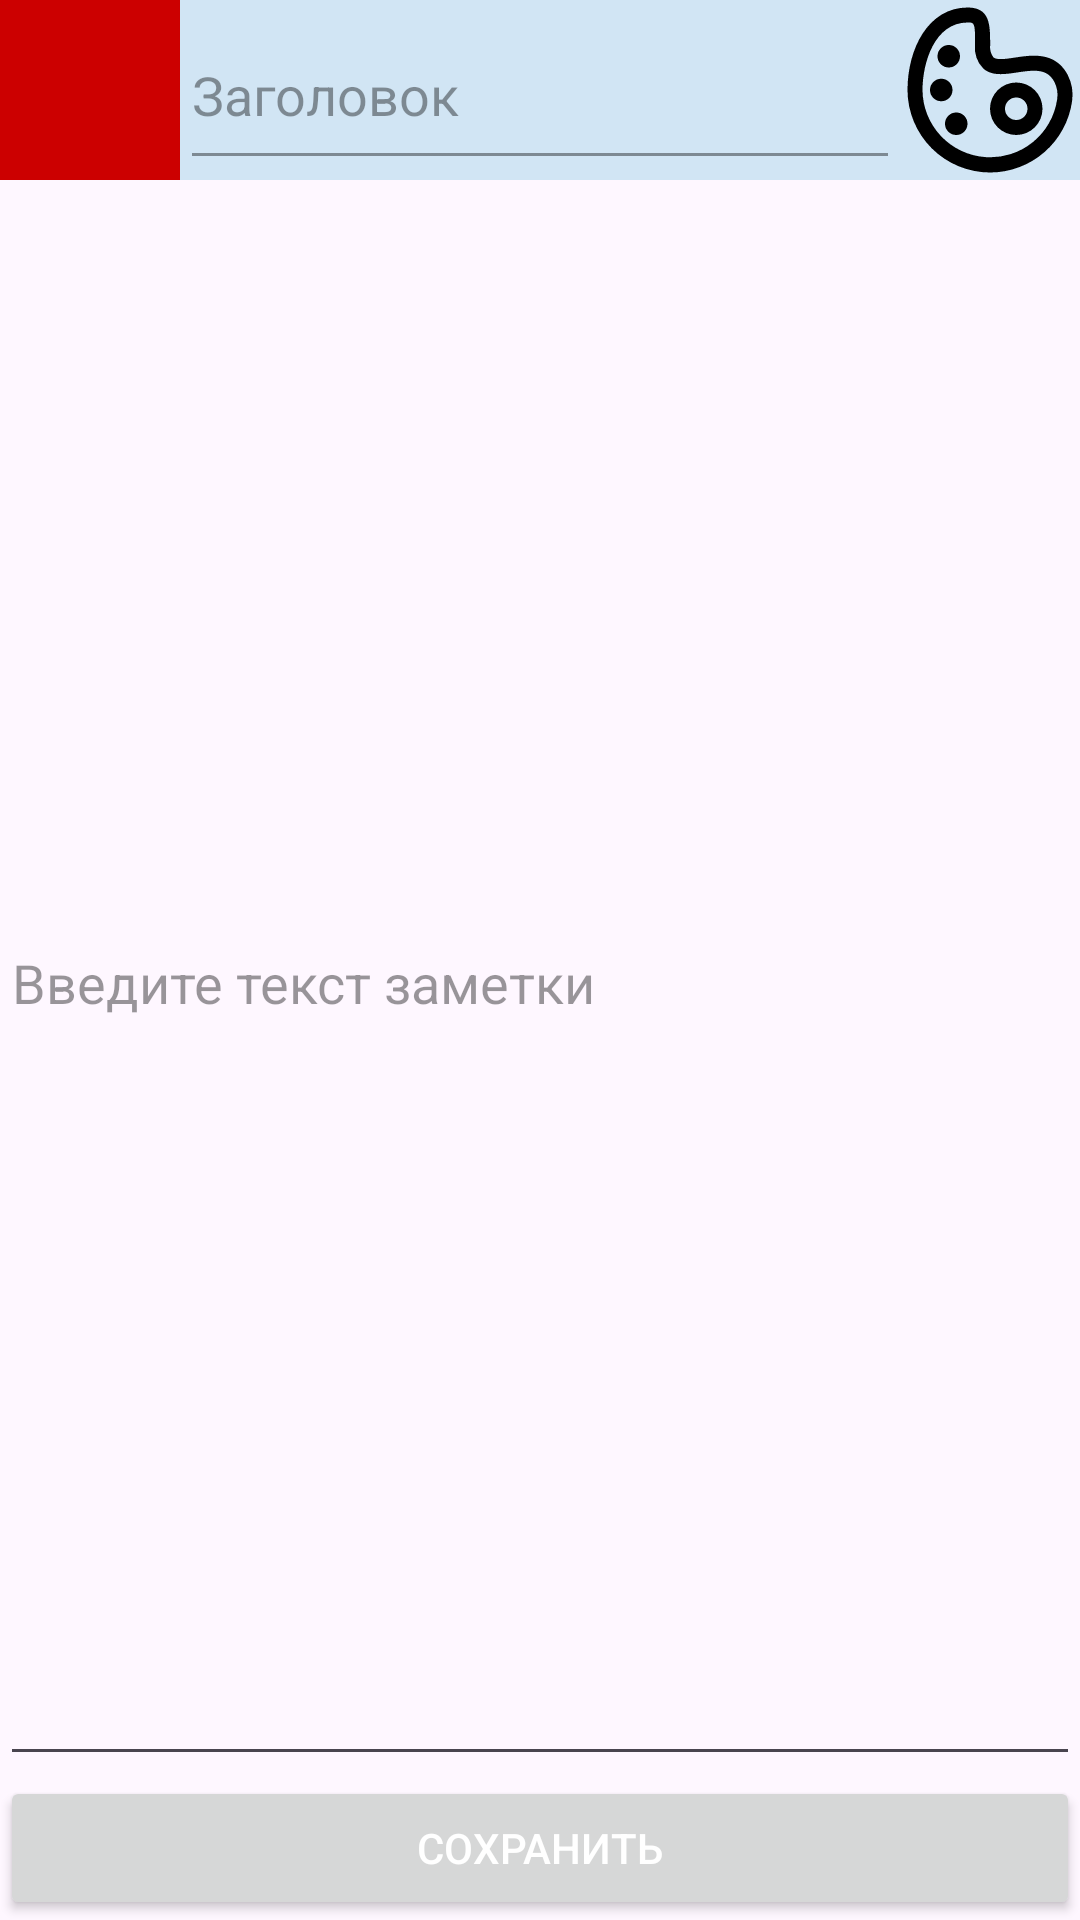

Where icons sit on this 1080 x 1920 app screen, as (x1, y1, x2, y2):
palette: (907, 7, 1073, 173)
